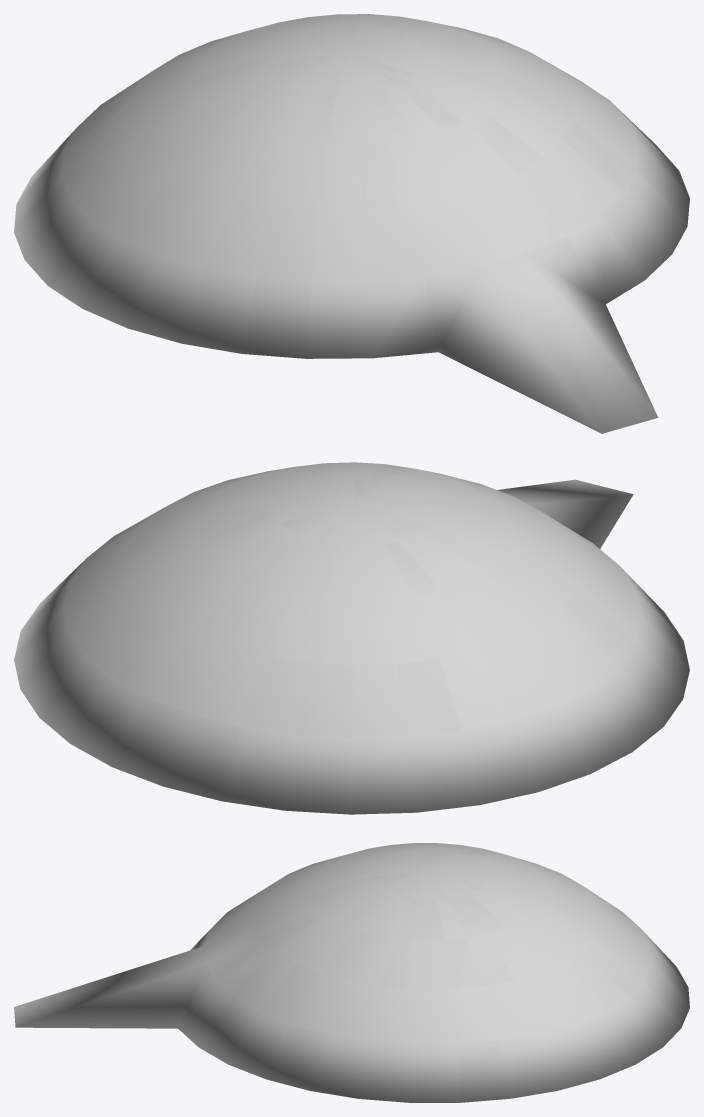
File: clothBottleCap.gltf
The picture shows the model from 3 angles, top to bottom: view 1: azimuth 30°, elevation 25°; view 2: azimuth 150°, elevation 25°; view 3: azimuth 270°, elevation 25°; orthographic projection. The views are drawn at different scales.
Parts seen in each view (by area): view 1: decker; view 2: decker; view 3: decker.
Part boxes in pixels (x1,y1,x2,y2): decker: [14, 14, 689, 433]; decker: [14, 462, 689, 814]; decker: [14, 843, 689, 1102].
Bounding box in the file's own units: 0.4581 × 0.137 × 0.5899.
1 material, 1 textured.
